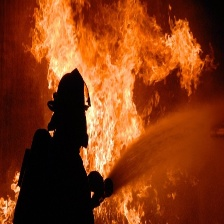fire: (30, 1, 207, 219), (1, 165, 22, 224)
